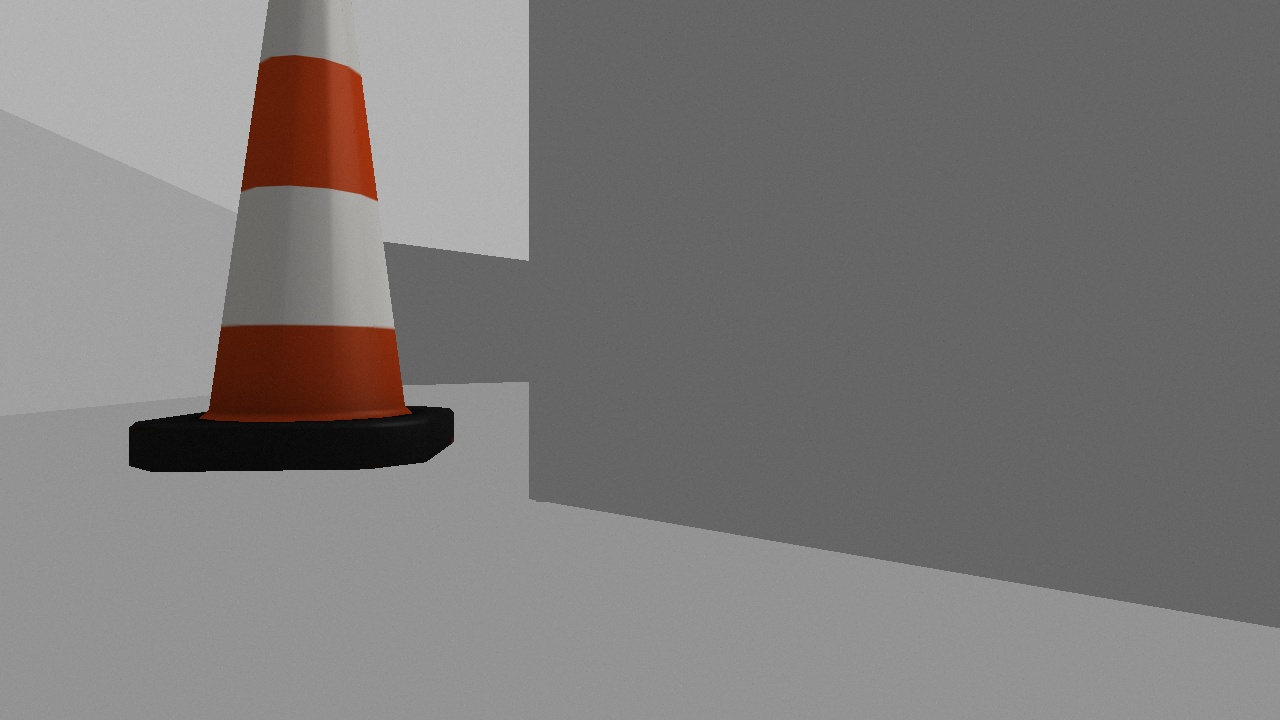barricade: (128, 1, 454, 472)
